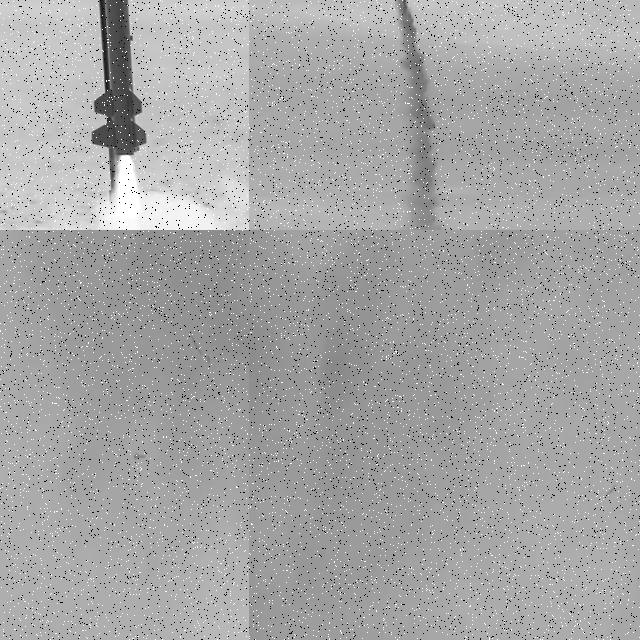Rocket: (88, 0, 149, 159), (606, 485, 617, 496), (134, 452, 146, 461)
